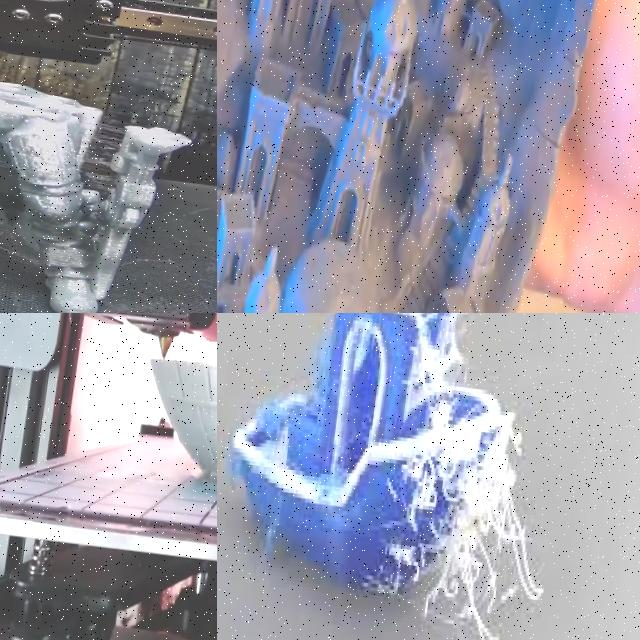spaghetti: (393, 313, 543, 640), (240, 358, 291, 464), (298, 320, 339, 418)
